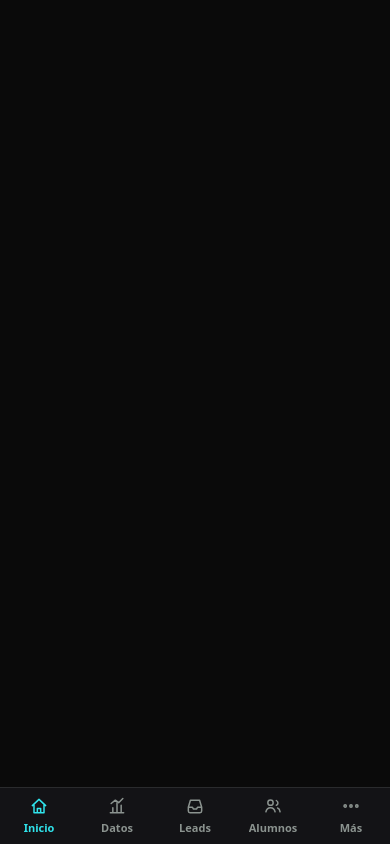
Test: TabBar del panel › se cierra volviendo a pulsar Más
Click the button "Más": (351, 816) [312,788,389,843]
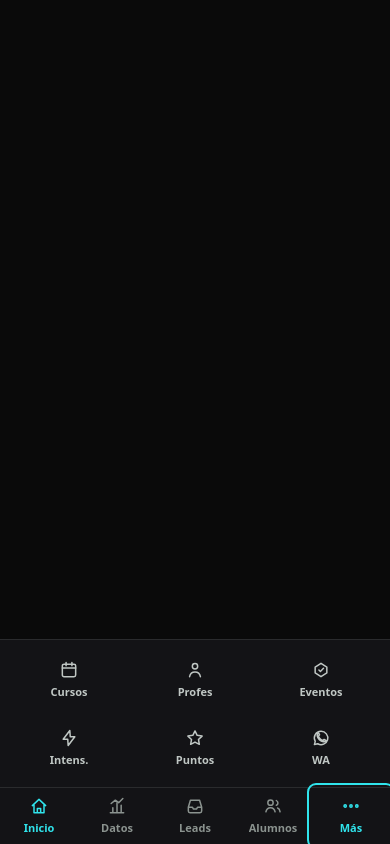
Result: the button "Más" is expanded
Click the button "Más": (351, 816) [312,788,389,843]
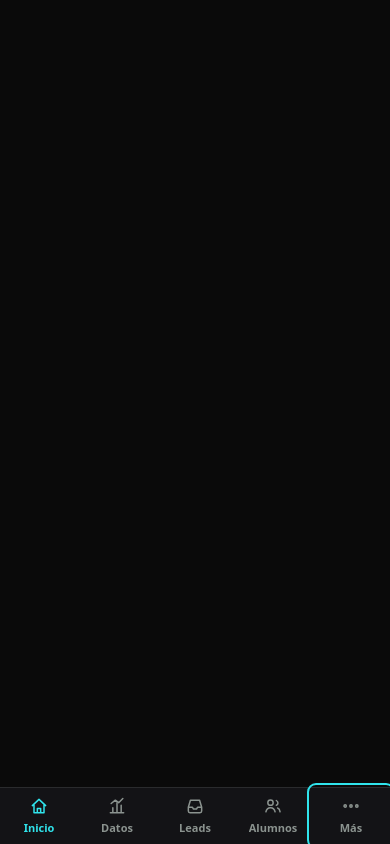
Result: the button "Más" is collapsed at [312,788,389,843]
Result: the link "WA" is gone
